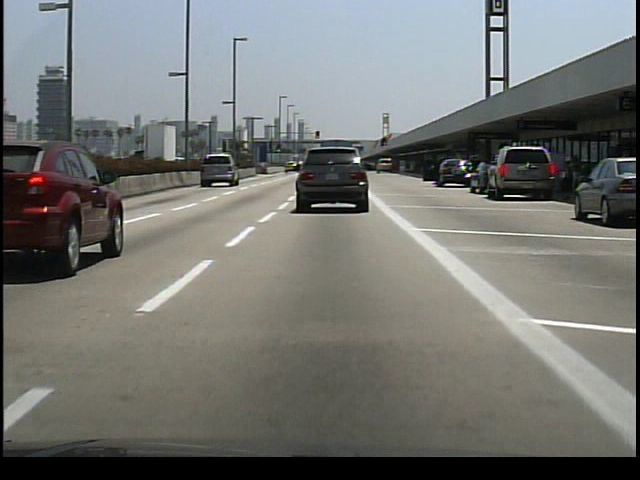person: (566, 152, 584, 199)
